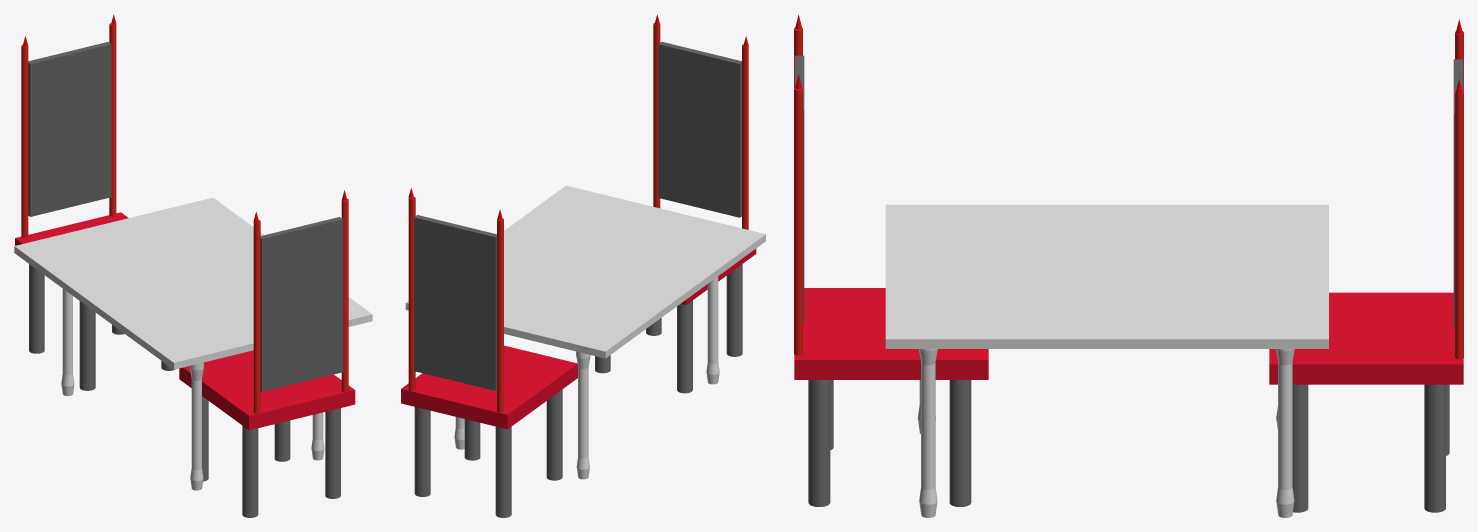
The model's file is mesa3.fbx.
The picture shows the model from 3 angles, left to right: view 1: azimuth 30°, elevation 25°; view 2: azimuth 150°, elevation 25°; view 3: azimuth 270°, elevation 25°; orthographic projection. The views are drawn at different scales.
Visible parts, largest first — view 1: Cube.005, Cylinder.028, Cylinder.026; view 2: Cube.005, Cylinder.026, Cylinder.028; view 3: Cube.005, Cylinder.026, Cylinder.028.
Boxes of the visible parts, x1,y1,x2,y2 form: Cube.005: (14, 197, 372, 490); Cylinder.028: (179, 190, 355, 517); Cylinder.026: (15, 14, 175, 390); Cube.005: (405, 185, 765, 479); Cylinder.026: (401, 188, 577, 517); Cylinder.028: (595, 14, 756, 393); Cube.005: (885, 204, 1328, 517); Cylinder.026: (1269, 19, 1463, 512); Cylinder.028: (794, 14, 988, 506).
Bounding box in the file's own units: 648 × 967 × 1362.
